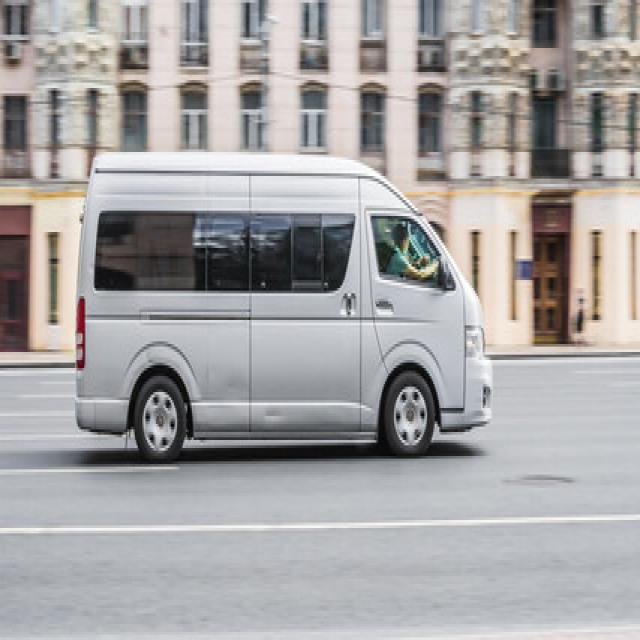van: (76, 152, 492, 461)
